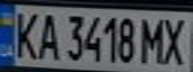1: (100, 14, 121, 62)
3: (60, 10, 84, 62)
4: (81, 12, 103, 63)
8: (115, 13, 139, 64)
A: (33, 9, 60, 61)
K: (9, 8, 42, 61)
M: (139, 15, 169, 64)
X: (157, 14, 193, 66)
